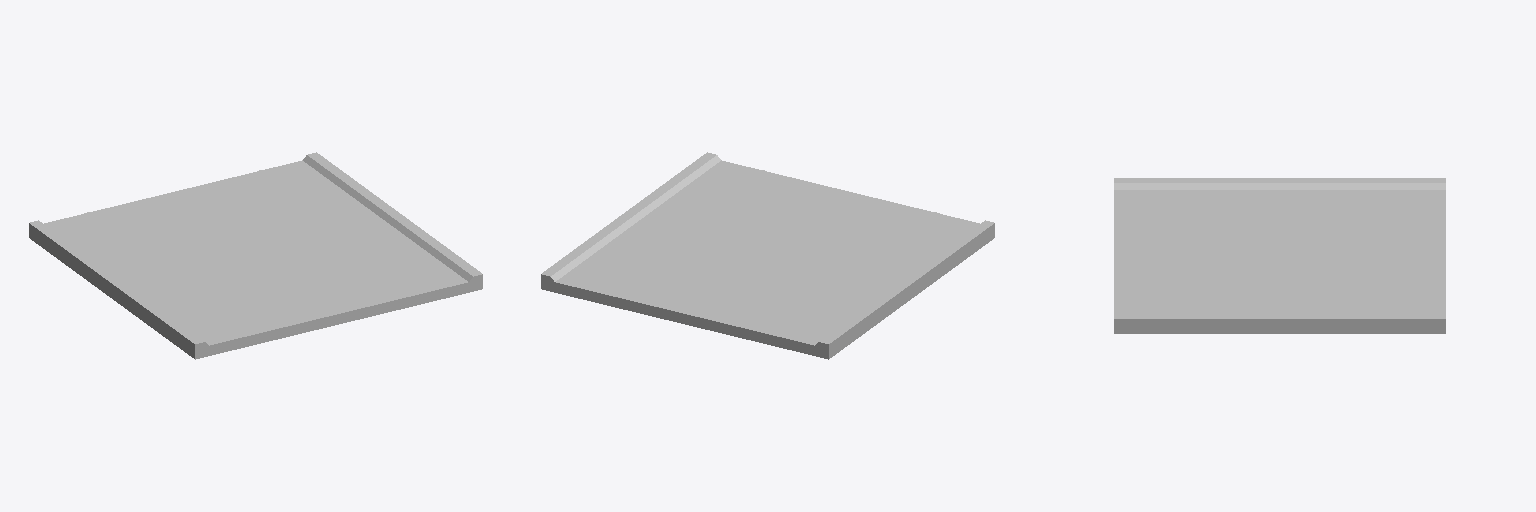
File: road_straight.obj
3 views of the same model, side by side, from view 1: azimuth 30°, elevation 25°; view 2: azimuth 150°, elevation 25°; view 3: azimuth 270°, elevation 25° (orthographic).
Parts seen in each view (by area): view 1: road_straight_Cube.952; view 2: road_straight_Cube.952; view 3: road_straight_Cube.952.
Boxes of the visible parts, x1=… form: road_straight_Cube.952: x1=29, y1=152, x2=482, y2=359; road_straight_Cube.952: x1=541, y1=152, x2=994, y2=359; road_straight_Cube.952: x1=1114, y1=178, x2=1445, y2=333.
Size of the model in its own units: 2 by 0.1 by 2.